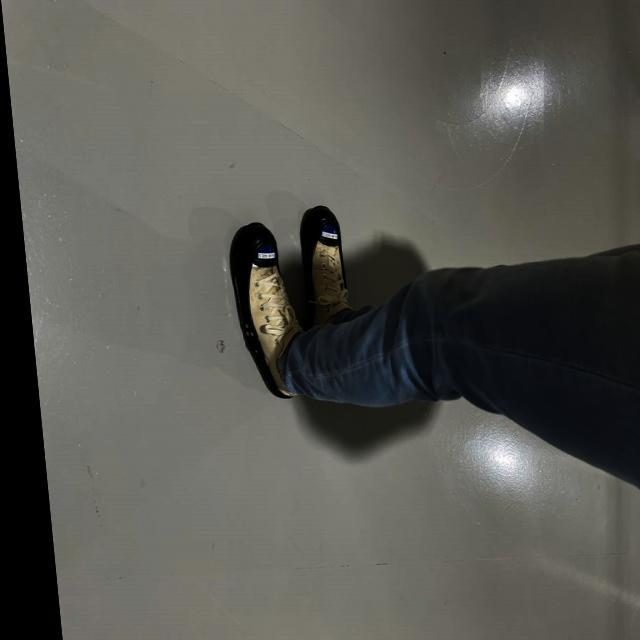shoes: (219, 215, 305, 392), (292, 200, 353, 323)
